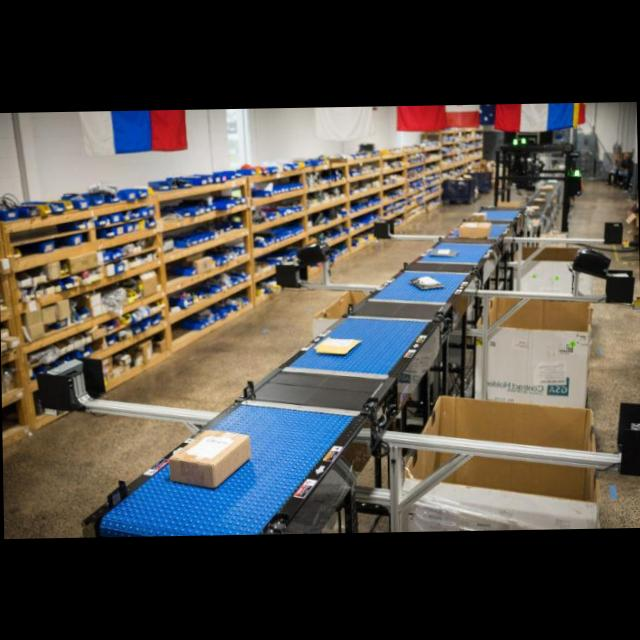box: (170, 432, 250, 488), (459, 222, 491, 237), (470, 213, 485, 221)
mailer: (316, 336, 360, 354), (411, 276, 444, 289), (434, 249, 457, 257)
